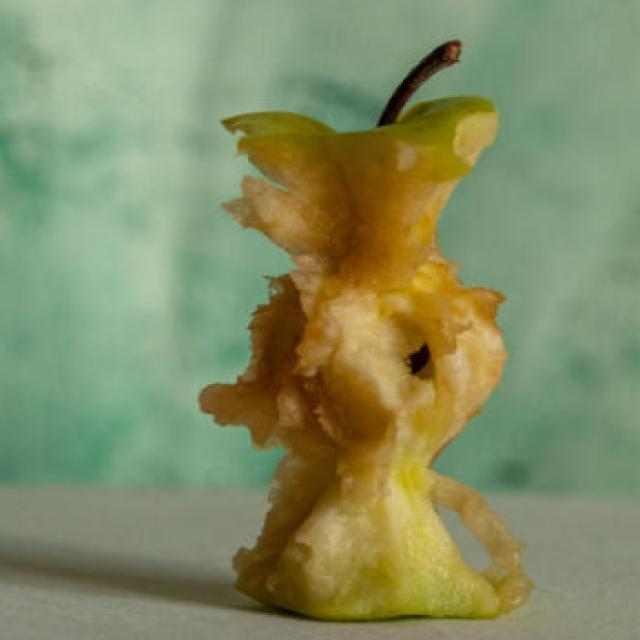paper: (219, 19, 556, 632)
